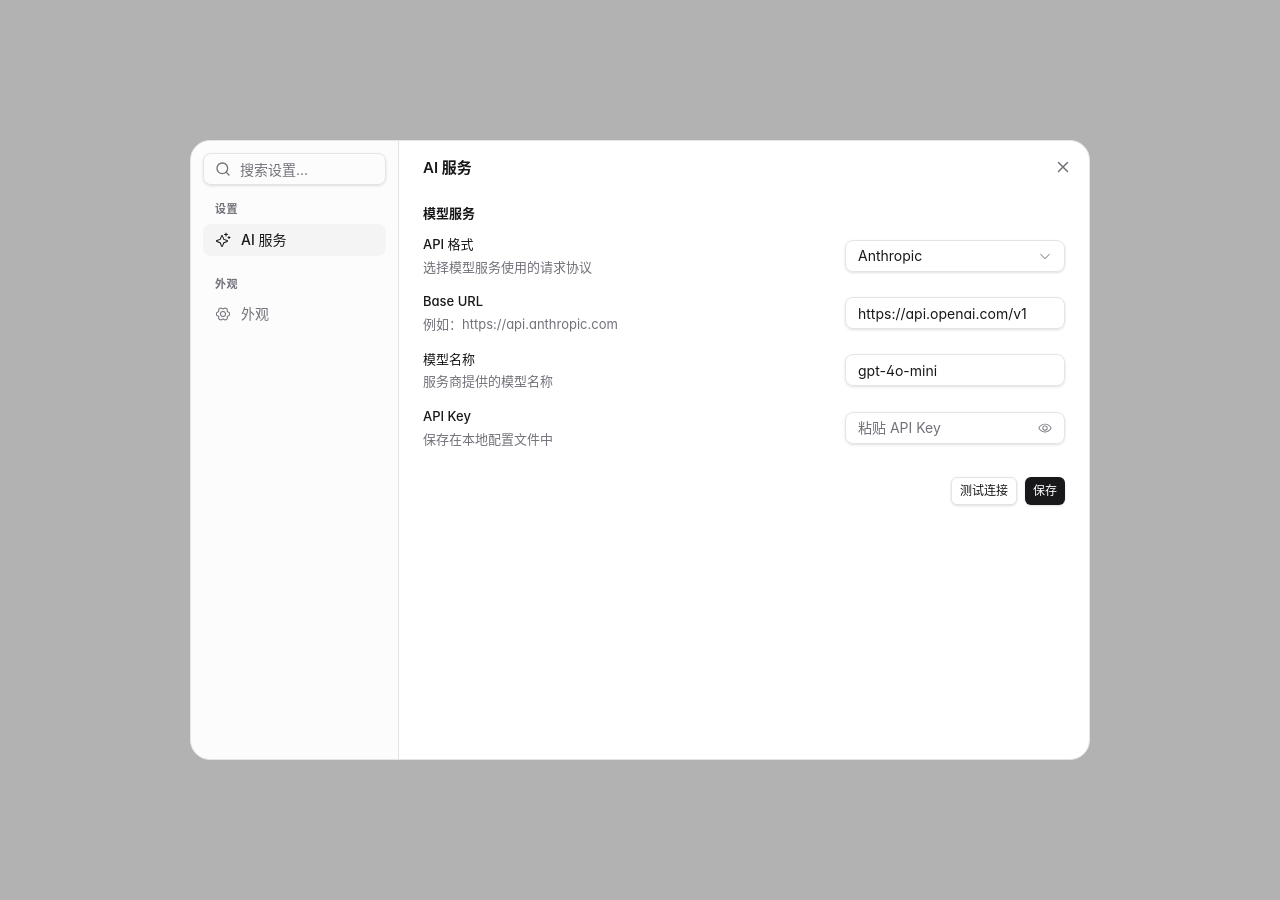
Scenario: SettingsModal › filters the settings page with the sidebar search
The width and height of the screenshot is (1280, 900).
Type "不存在" into the field labelled "搜索设置..." at (294, 169), box 203,153 -> 386,185
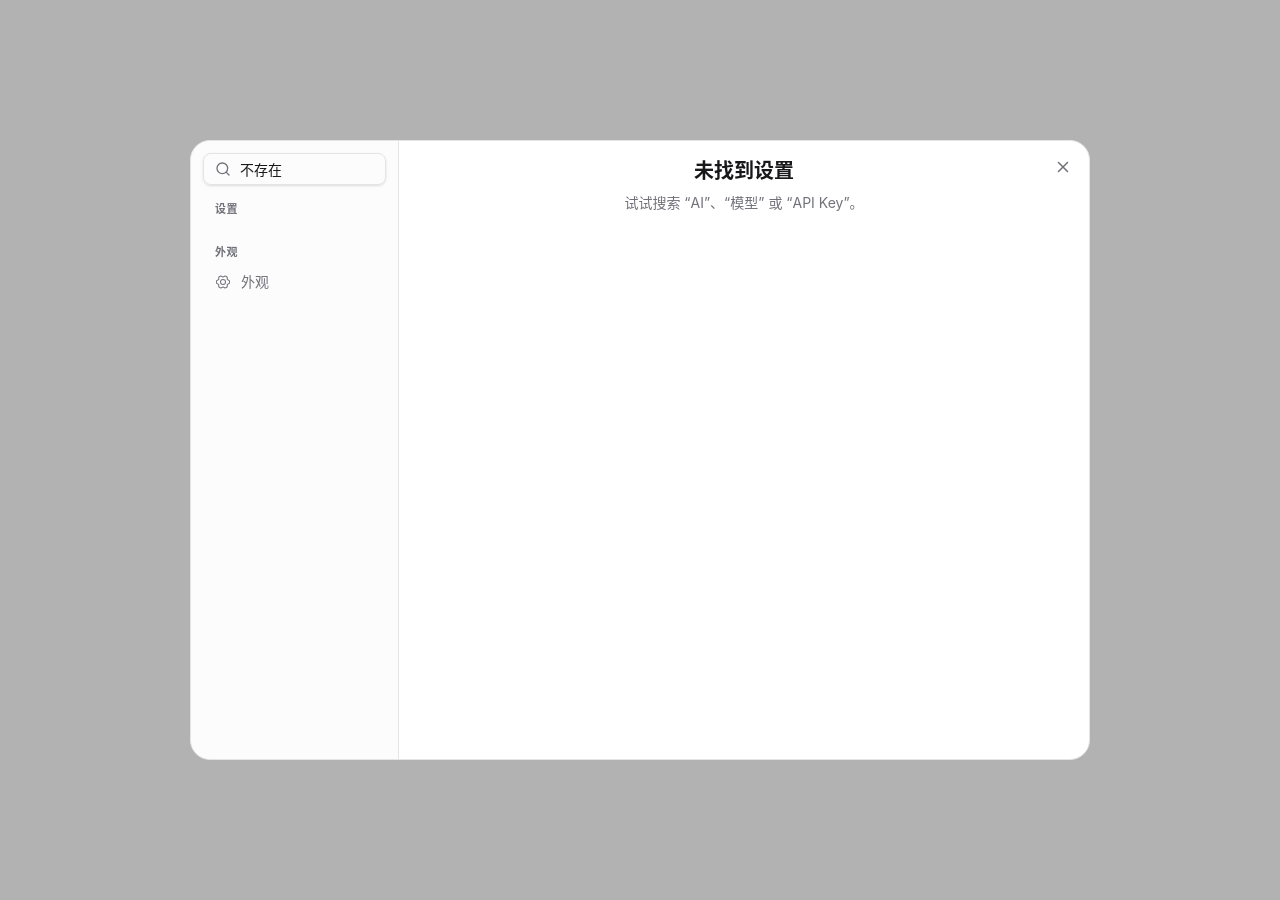
Expected: the heading "未找到设置" is shown, 694,157 -> 794,185
Expected: the button "AI 服务" is gone
